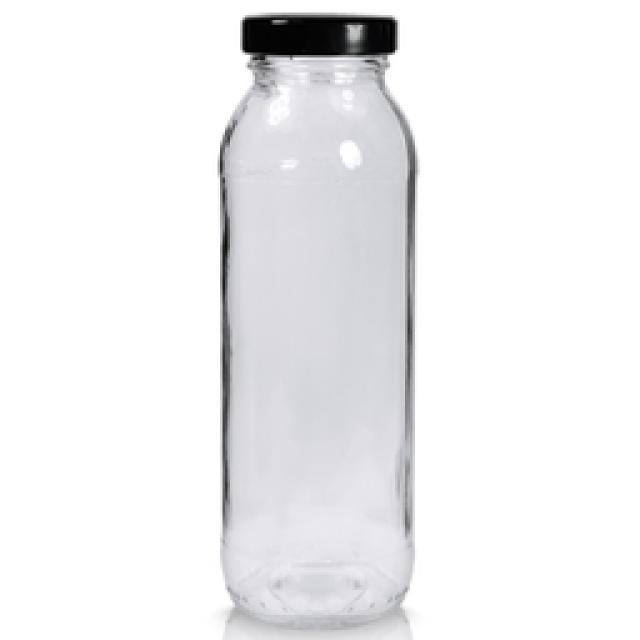glass_beverage_bottles: (217, 5, 413, 627)
